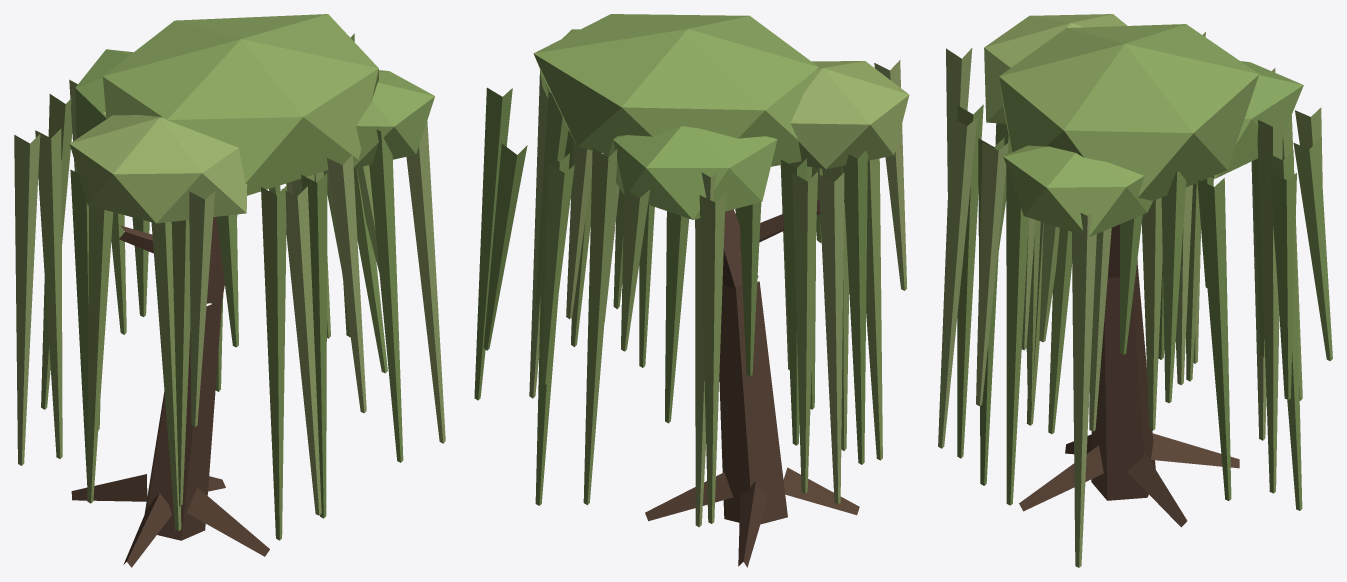
The model's file is tree_willow.glb.
3 views of the same model, side by side, from view 1: azimuth 30°, elevation 25°; view 2: azimuth 150°, elevation 25°; view 3: azimuth 270°, elevation 25° (orthographic).
Parts seen in each view (by area): view 1: tree_willow_Crown, tree_willow; view 2: tree_willow_Crown, tree_willow; view 3: tree_willow_Crown, tree_willow.
Boxes of the visible parts, bbox=[...] form: tree_willow_Crown: bbox=[14, 14, 445, 540]; tree_willow: bbox=[71, 214, 269, 567]; tree_willow_Crown: bbox=[474, 14, 909, 527]; tree_willow: bbox=[645, 199, 859, 567]; tree_willow_Crown: bbox=[938, 14, 1332, 567]; tree_willow: bbox=[1019, 224, 1239, 527].
Bounding box in the file's own units: 2.38 × 2.92 × 2.18.
